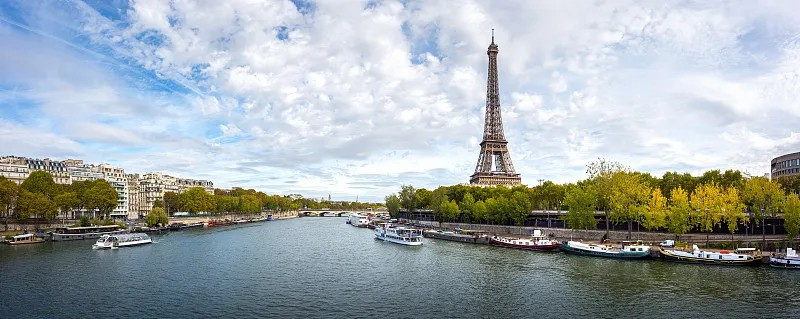Eiffel: (468, 29, 522, 187)
